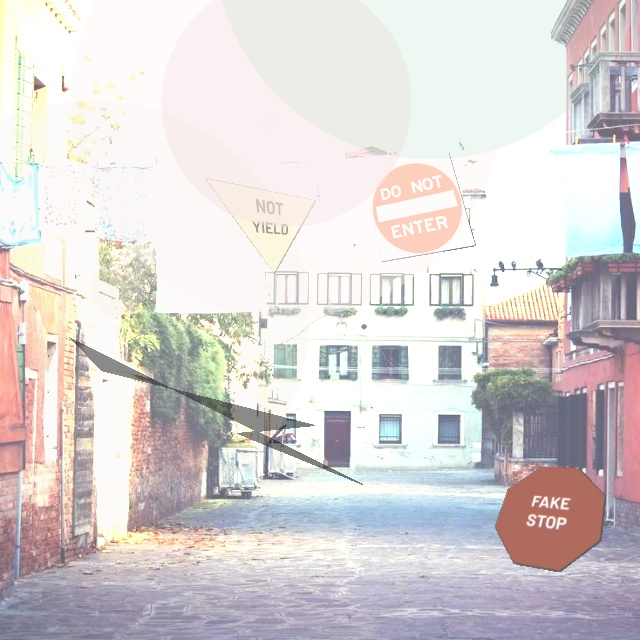DO_NOT_ENTER: (364, 152, 476, 262)
FAKE_STOP: (494, 466, 606, 572)
NOT_YIELD: (204, 177, 316, 274)
